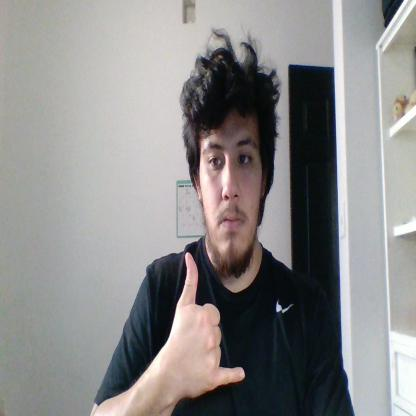Y: (168, 252, 245, 398)
